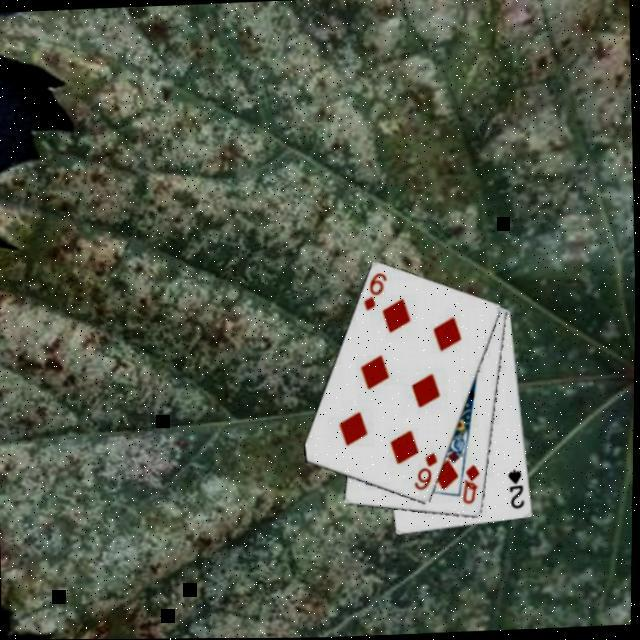2S: (507, 464, 532, 510)
6D: (361, 268, 394, 313), (413, 447, 445, 492)
QD: (461, 459, 488, 505)
